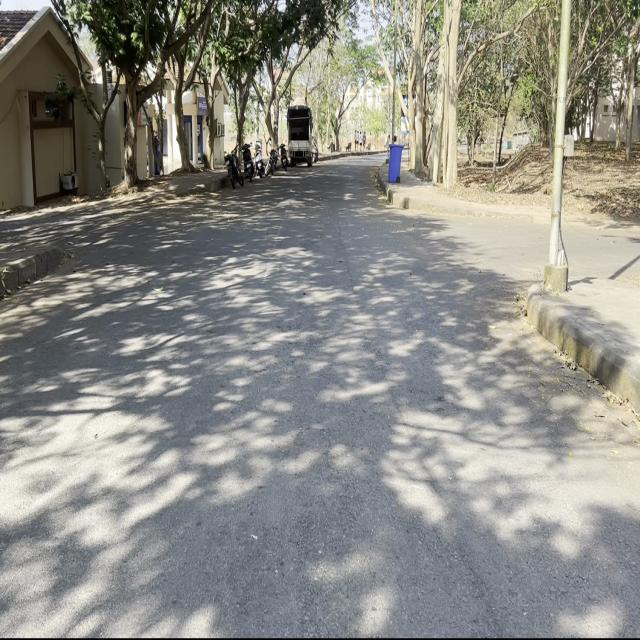Object: (280, 97, 314, 170), (222, 144, 242, 192), (241, 135, 253, 188), (251, 132, 264, 178)
Road: (4, 156, 634, 628)
